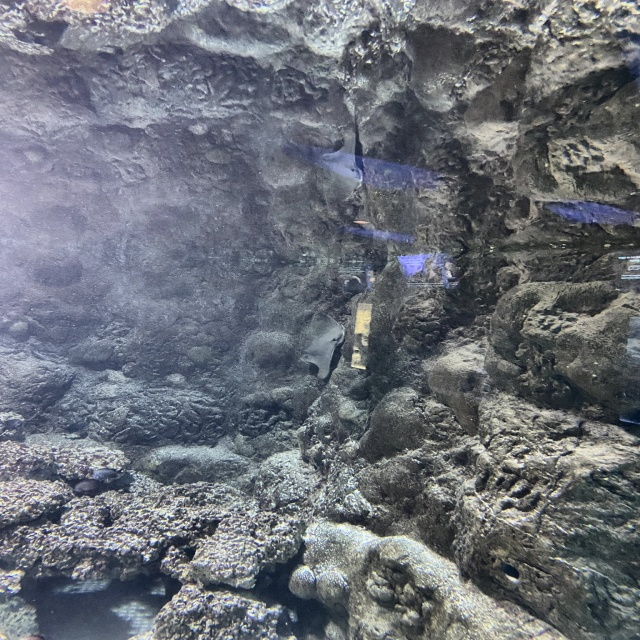stingray: (300, 312, 346, 381)
